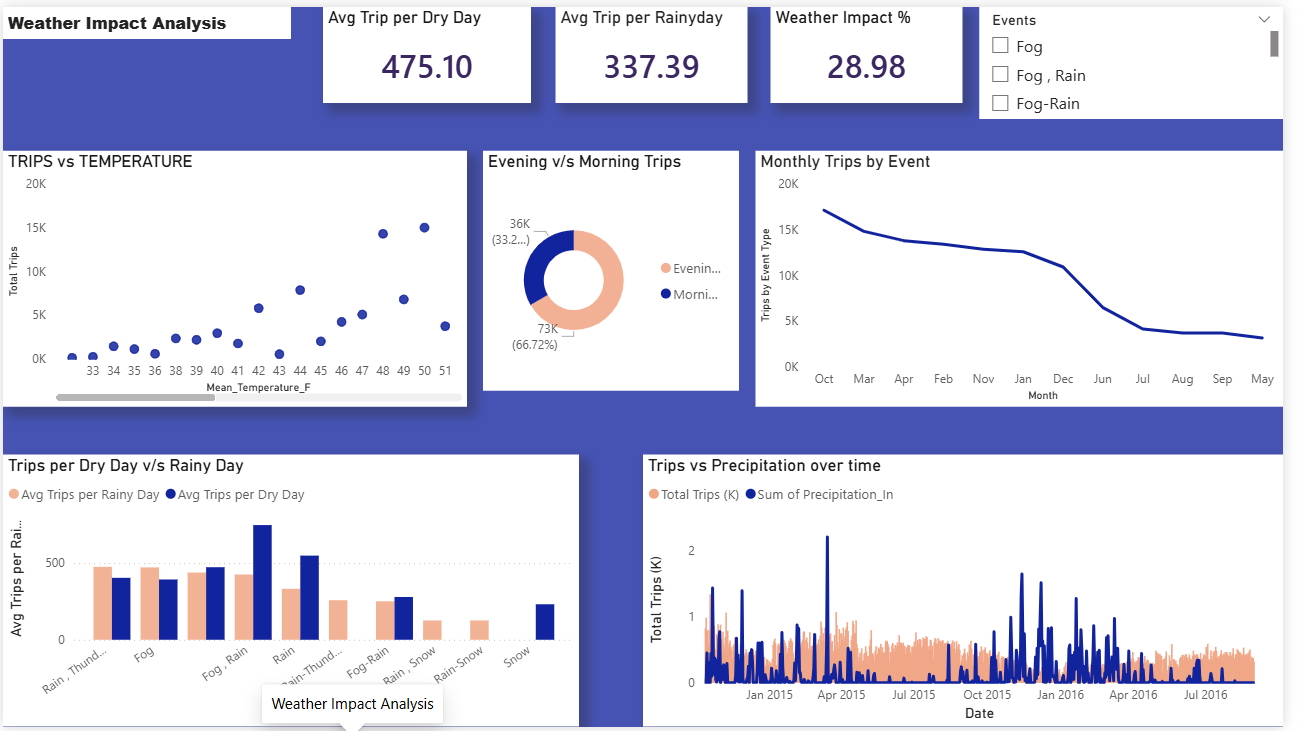

Layout of this report page (visuals, bound fields, positions):
{"tool":"powerbi","page":{"name":"Weather Impact Analysis","canvas":[1280,720],"ordinal":1},"visuals":[{"type":"textbox","box":[0,0,288,32],"z":0},{"type":"cardVisual","title":"Avg Trip per Dry Day","fields":{"Data":["weatherTable.Avg Trips per Dry Day"]},"box":[320,0,208,96],"z":1},{"type":"cardVisual","title":"Avg Trip per Rainyday","fields":{"Data":["weatherTable.Avg Trips per Rainy Day"]},"box":[552,0,192,96],"z":2},{"type":"cardVisual","title":"Weather Impact %","fields":{"Data":["weatherTable.Weather Impact %"]},"box":[768,0,192,96],"z":3},{"type":"slicer","fields":{"Values":["weather.Events"]},"box":[976,0,304,112],"z":4},{"type":"scatterChart","title":"TRIPS vs TEMPERATURE ","fields":{"X":["weather.Mean_Temperature_F"],"Y":["Meas.Total Trips"]},"box":[0,144,464,256],"z":5},{"type":"clusteredColumnChart","title":" Trips per Dry Day v/s Rainy Day ","fields":{"Category":["weather.Events"],"Y":["weatherTable.Avg Trips per Rainy Day","weatherTable.Avg Trips per Dry Day"]},"box":[0,448,576,272],"z":6},{"type":"lineStackedColumnComboChart","title":"Trips vs Precipitation over time","fields":{"Category":["DateTable.Date"],"Y":["Meas.Total Trips (K)"],"Y2":["Sum(weather.Precipitation_In)"]},"box":[640,448,640,272],"z":7},{"type":"lineChart","title":"Monthly Trips by Event  ","fields":{"Y":["weatherTable.Trips by Event Type"],"Category":["DateTable.Month"]},"box":[752,144,528,256],"z":8},{"type":"donutChart","title":"Evening  v/s Morning  Trips ","fields":{"Y":["weatherTable.Evening Rush Trips (4-7 PM)","weatherTable.Morning Rush Trips (7-9 AM)"]},"box":[480,144,256,240],"z":9}]}

Visuals, with their boxes in screenshot pixels (x1, y1, x2, y2), scaled from the page's 1280x720 canvas onto the 1307x731 screenshot:
textbox: 0:0:294:32
"Avg Trip per Dry Day" cardVisual: 327:0:539:97
"Avg Trip per Rainyday" cardVisual: 564:0:760:97
"Weather Impact %" cardVisual: 784:0:980:97
slicer - weather.Events: 997:0:1306:114
"TRIPS vs TEMPERATURE " scatterChart: 0:146:474:406
" Trips per Dry Day v/s Rainy Day " clusteredColumnChart: 0:455:588:730
"Trips vs Precipitation over time" lineStackedColumnComboChart: 654:455:1306:730
"Monthly Trips by Event  " lineChart: 768:146:1306:406
"Evening  v/s Morning  Trips " donutChart: 490:146:752:390
